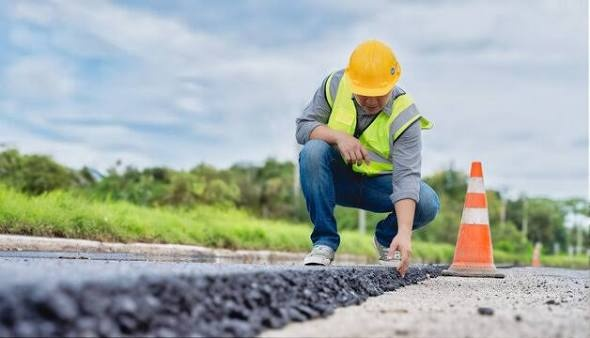hardhat: (341, 38, 407, 100)
person: (288, 35, 440, 282)
safety_vest: (316, 80, 411, 182)
